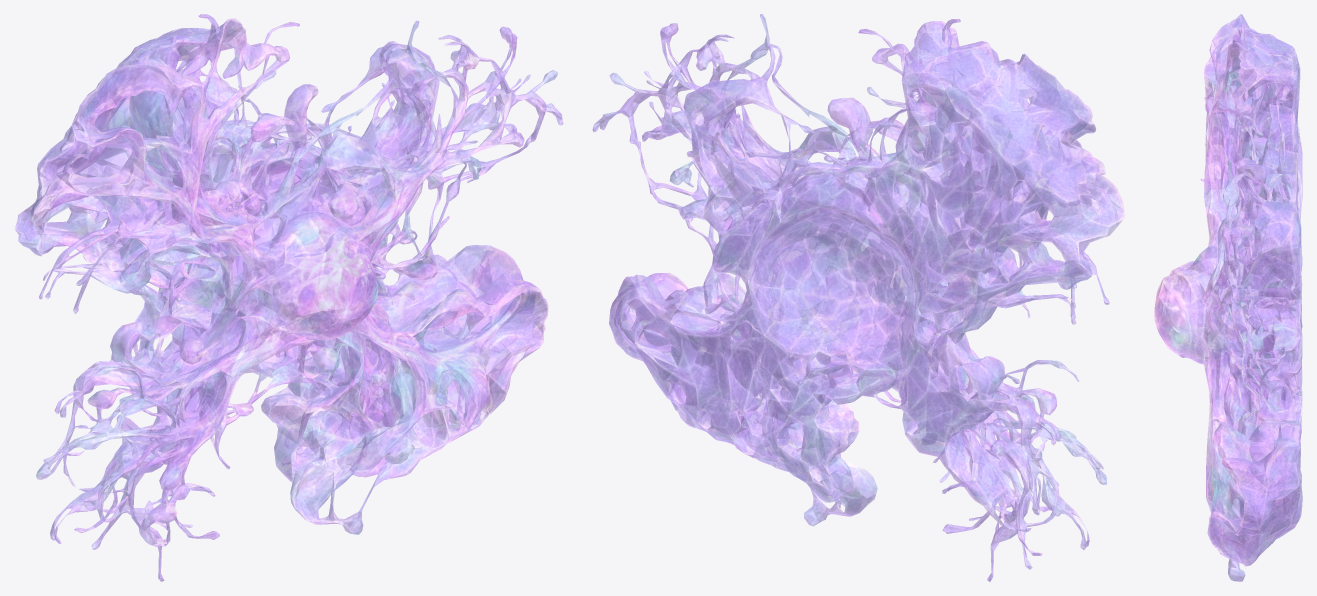
Rendered from cell08.glb.
The picture shows the model from 3 angles, left to right: view 1: azimuth 30°, elevation 25°; view 2: azimuth 150°, elevation 25°; view 3: azimuth 270°, elevation 25°; orthographic projection. The views are drawn at different scales.
Visible parts, largest first — view 1: Mesh_0; view 2: Mesh_0; view 3: Mesh_0.
Boxes of the visible parts, <box> form: Mesh_0: <box>14,14,563,581</box>; Mesh_0: <box>592,14,1125,581</box>; Mesh_0: <box>1154,14,1302,581</box>.
Size of the model in its own units: 1.89 by 1.9 by 0.5117.
1 material, 1 textured.
